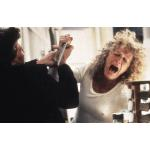Pisau: (54, 36, 76, 70)
